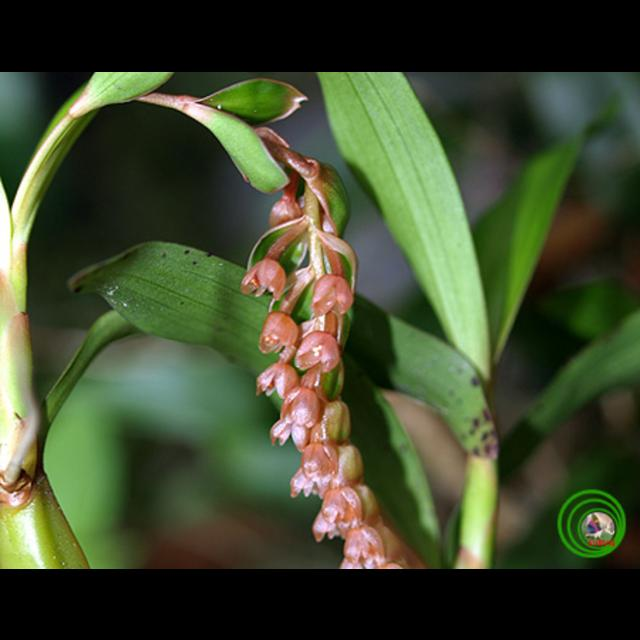Flower: (245, 148, 363, 544)
